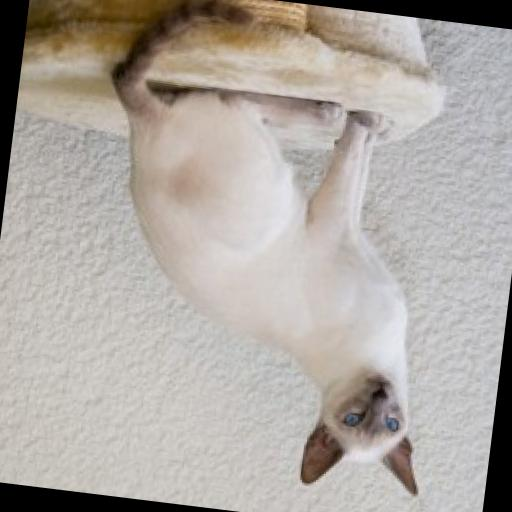cat: (30, 0, 491, 509)
